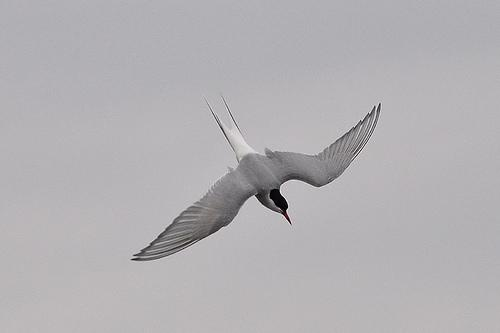bird: (131, 86, 383, 259)
